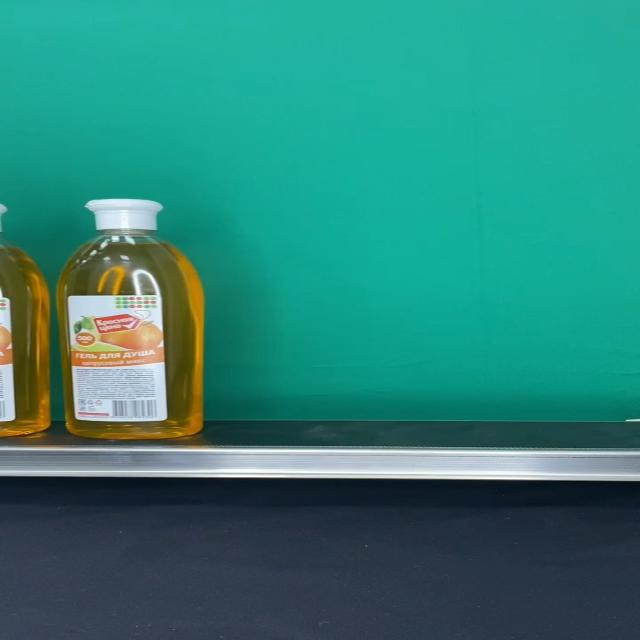Bottle: (56, 199, 205, 439)
Cap: (85, 199, 163, 231)
